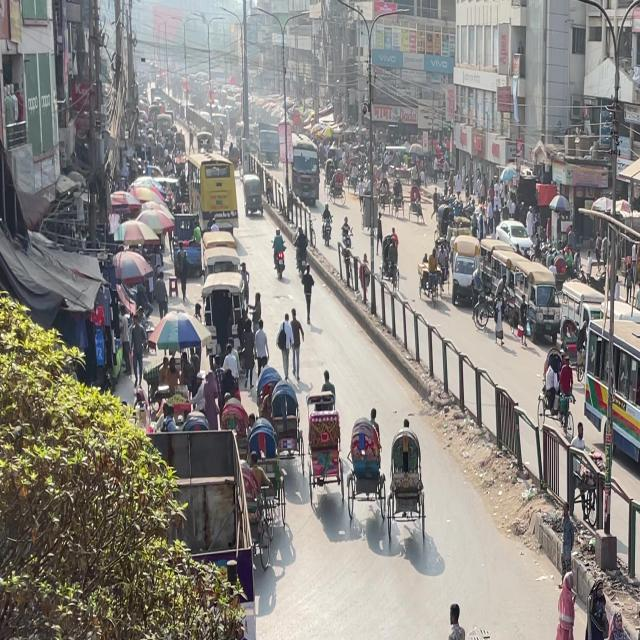motorbike: (233, 444, 293, 566)
van: (577, 304, 640, 503)
